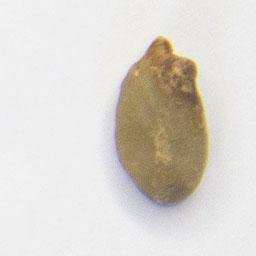defect: (111, 32, 212, 210)
